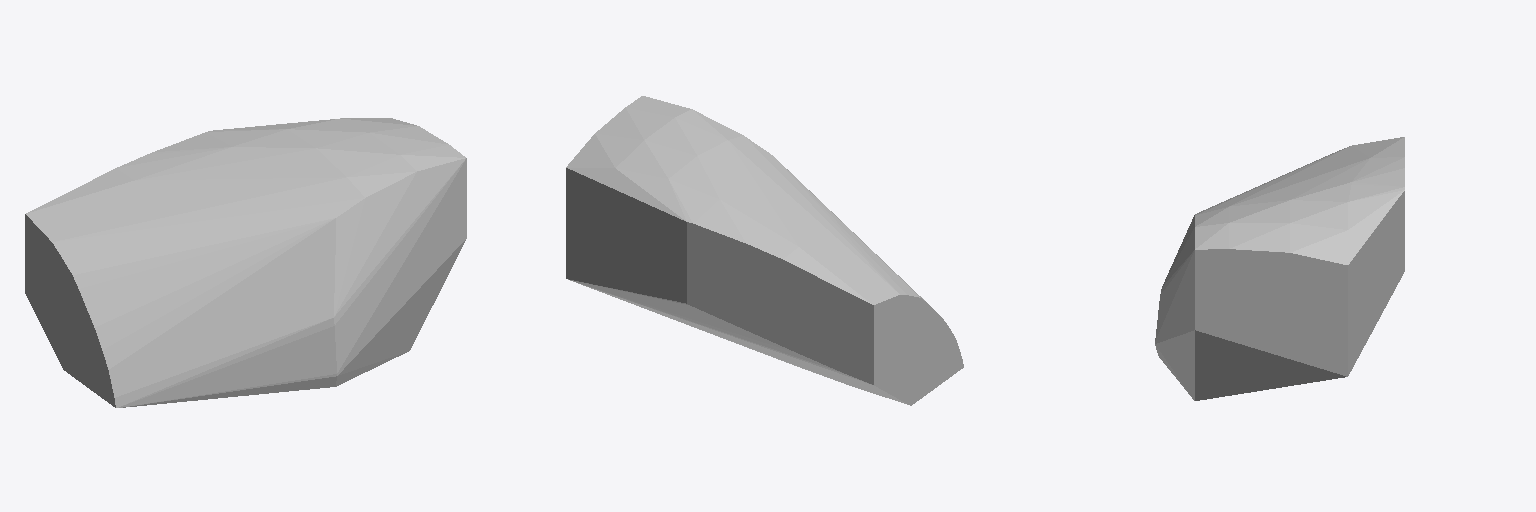
The model's file is phantom-elastrat_collision_388.obj.
The picture shows the model from 3 angles: view 1: azimuth 30°, elevation 25°; view 2: azimuth 150°, elevation 25°; view 3: azimuth 270°, elevation 25°; orthographic projection.
Size of the model in its own units: 0.0073 by 0.0038 by 0.0047.